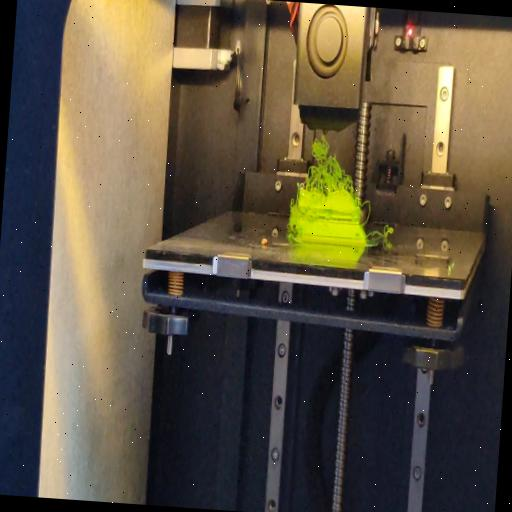spaghetti: (295, 128, 359, 200), (367, 222, 395, 240), (360, 200, 373, 224), (284, 229, 298, 240)
